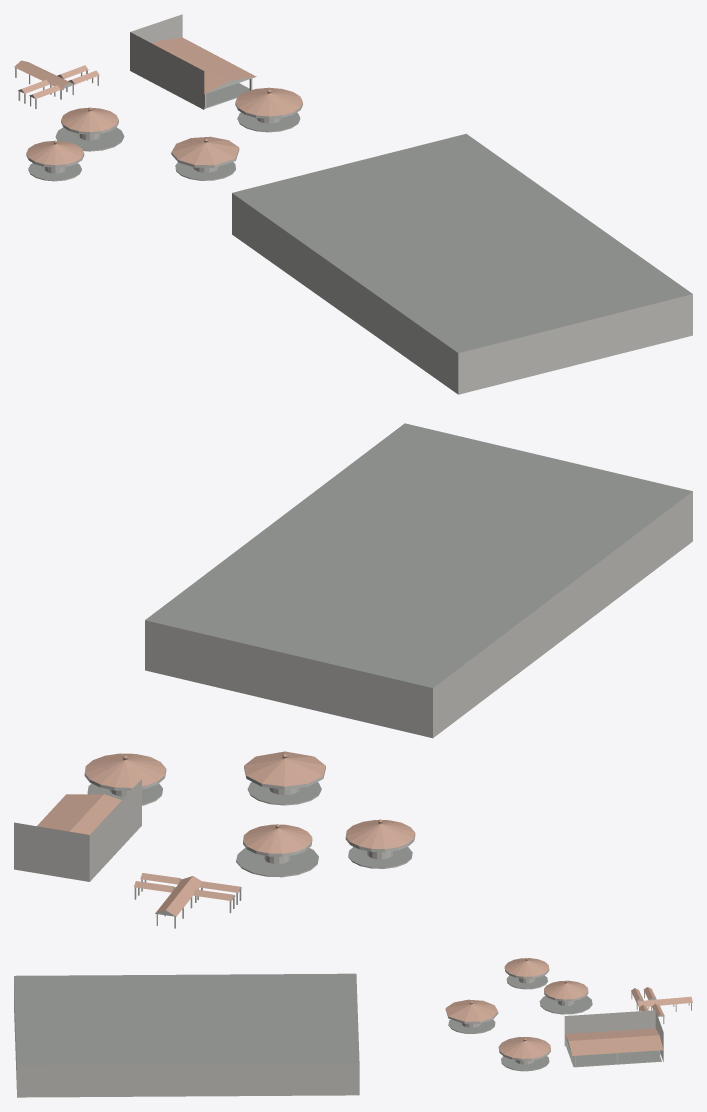
Rendered from gridID_23.dae.
The picture shows the model from 3 angles, top to bottom: view 1: azimuth 30°, elevation 25°; view 2: azimuth 150°, elevation 25°; view 3: azimuth 270°, elevation 25°; orthographic projection. The views are drawn at different scales.
Visible parts, largest first — view 1: model_gridID_23_w390025829, model_gridID_23_w390383622, model_gridID_23_w390952442, model_gridID_23_w390577025, model_gridID_23_w390952441, model_gridID_23_w390027475, model_gridID_23_w390027483; view 2: model_gridID_23_w390025829, model_gridID_23_w390383622, model_gridID_23_w390577025, model_gridID_23_w390952441, model_gridID_23_w390952442, model_gridID_23_w390027475, model_gridID_23_w390027483; view 3: model_gridID_23_w390025829, model_gridID_23_w390383622, model_gridID_23_w390952442, model_gridID_23_w390577025, model_gridID_23_w390952441, model_gridID_23_w390027475, model_gridID_23_w390027483.
Part boxes in pixels (bbox=[...]): model_gridID_23_w390025829: bbox=[232, 133, 692, 394]; model_gridID_23_w390383622: bbox=[130, 14, 256, 109]; model_gridID_23_w390952442: bbox=[235, 87, 302, 132]; model_gridID_23_w390577025: bbox=[171, 136, 239, 180]; model_gridID_23_w390952441: bbox=[55, 107, 124, 151]; model_gridID_23_w390027475: bbox=[26, 140, 84, 181]; model_gridID_23_w390027483: bbox=[14, 60, 99, 108]; model_gridID_23_w390025829: bbox=[145, 423, 692, 738]; model_gridID_23_w390383622: bbox=[14, 779, 141, 881]; model_gridID_23_w390577025: bbox=[244, 751, 325, 805]; model_gridID_23_w390952441: bbox=[236, 824, 318, 877]; model_gridID_23_w390952442: bbox=[84, 753, 166, 805]; model_gridID_23_w390027475: bbox=[345, 819, 415, 868]; model_gridID_23_w390027483: bbox=[134, 873, 241, 928]; model_gridID_23_w390025829: bbox=[14, 973, 359, 1097]; model_gridID_23_w390383622: bbox=[564, 1010, 663, 1067]; model_gridID_23_w390952442: bbox=[498, 1037, 550, 1071]; model_gridID_23_w390577025: bbox=[445, 999, 498, 1033]; model_gridID_23_w390952441: bbox=[539, 980, 592, 1014]; model_gridID_23_w390027475: bbox=[504, 958, 549, 989]; model_gridID_23_w390027483: bbox=[631, 987, 692, 1023].
Bounding box in the file's own units: 67.21 × 153 × 8.
